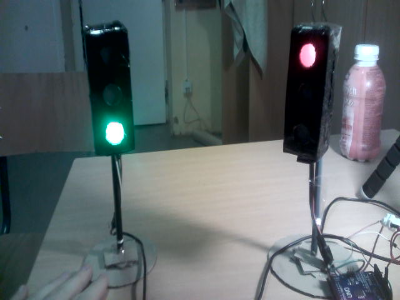trafficlight_green: (88, 29, 137, 149)
trafficlight_red: (288, 26, 334, 153)
